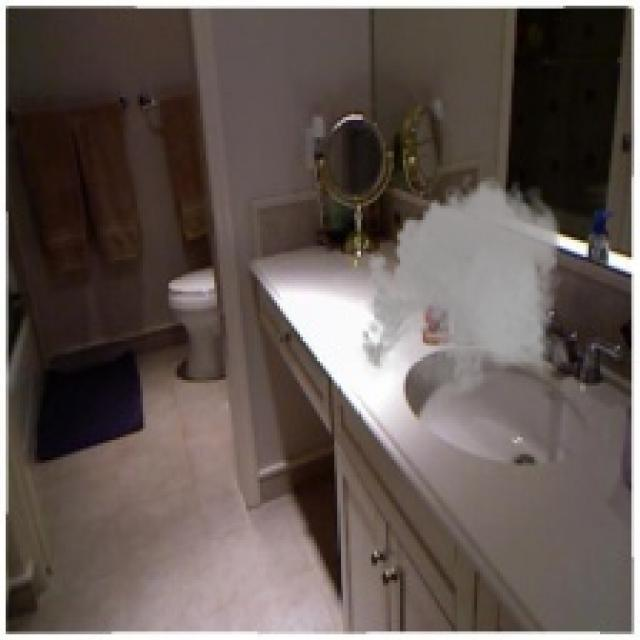Smoke: (354, 168, 569, 408)
